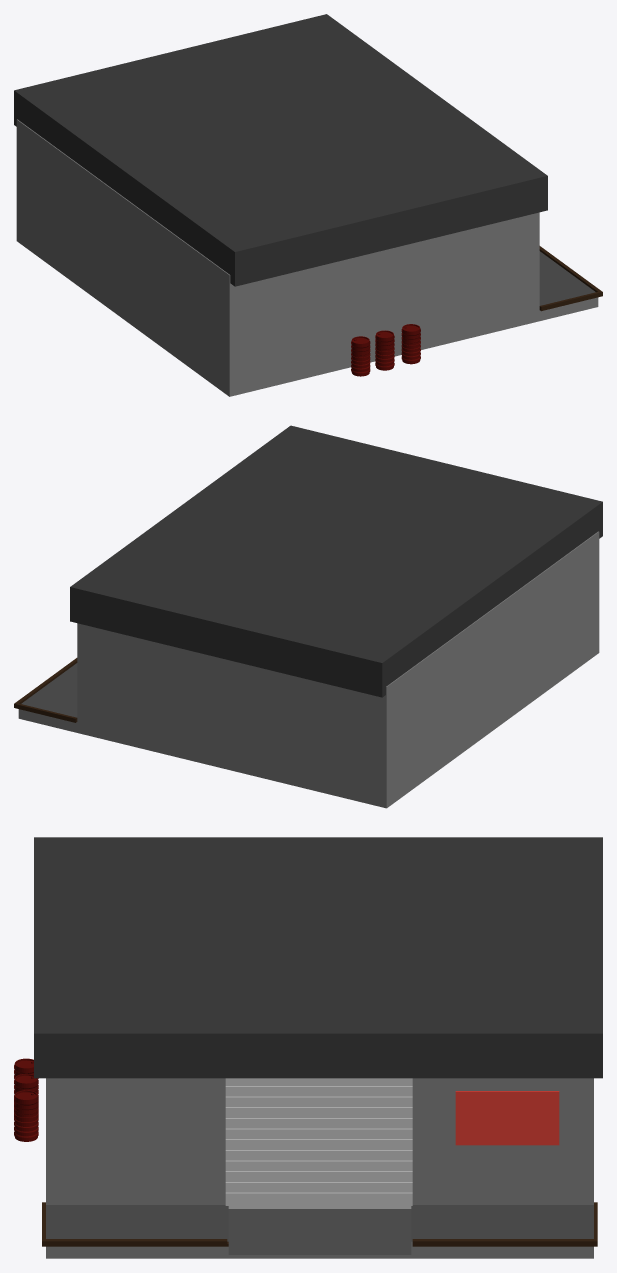
Rendered from mechanic.fbx.
3 renders of one model, top to bottom at view 1: azimuth 30°, elevation 25°; view 2: azimuth 150°, elevation 25°; view 3: azimuth 270°, elevation 25°, orthographic. The views are drawn at different scales.
Visible parts, largest first — view 1: Куб.024, Cube, Цилиндр.009, Цилиндр.008, Цилиндр.010; view 2: Куб.024, Cube; view 3: Куб.024, Cube, Куб.025, Куб.026, Цилиндр.010.
Part boxes in pixels (left/top/right/bottom): Куб.024: left=14, top=14, right=547, bottom=286; Cube: left=16, top=119, right=602, bottom=396; Цилиндр.009: left=375, top=330, right=394, bottom=370; Цилиндр.008: left=351, top=336, right=370, bottom=376; Цилиндр.010: left=401, top=324, right=420, bottom=364; Куб.024: left=70, top=425, right=602, bottom=697; Cube: left=14, top=531, right=599, bottom=808; Куб.024: left=34, top=837, right=602, bottom=1078; Cube: left=42, top=1078, right=597, bottom=1258; Куб.025: left=225, top=1078, right=412, bottom=1208; Куб.026: left=455, top=1091, right=559, bottom=1145; Цилиндр.010: left=14, top=1090, right=38, bottom=1141.
Bounding box in the file's own units: 733 × 280 × 781.
